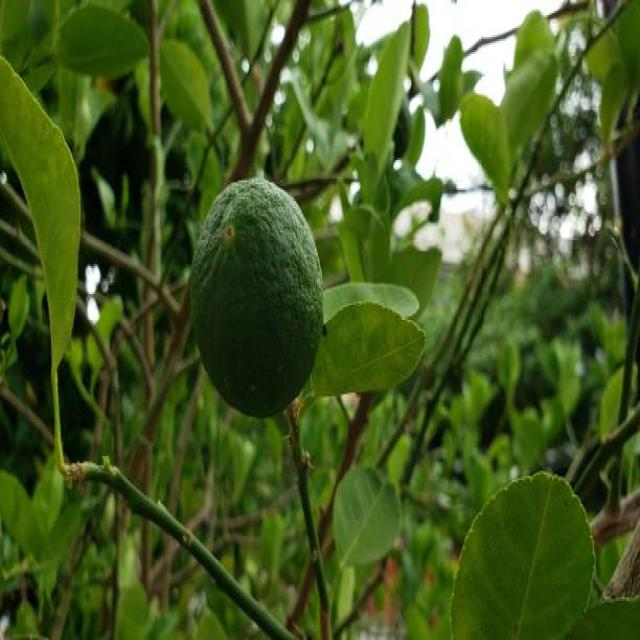Unripe: (189, 180, 322, 416)
